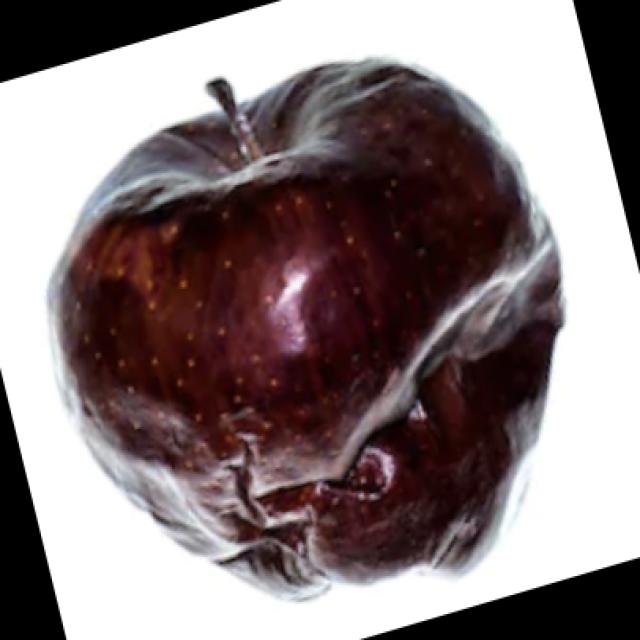organik: (62, 33, 569, 600)
